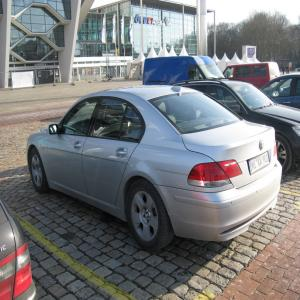Vehicle-registration-plate: (248, 151, 272, 175)
